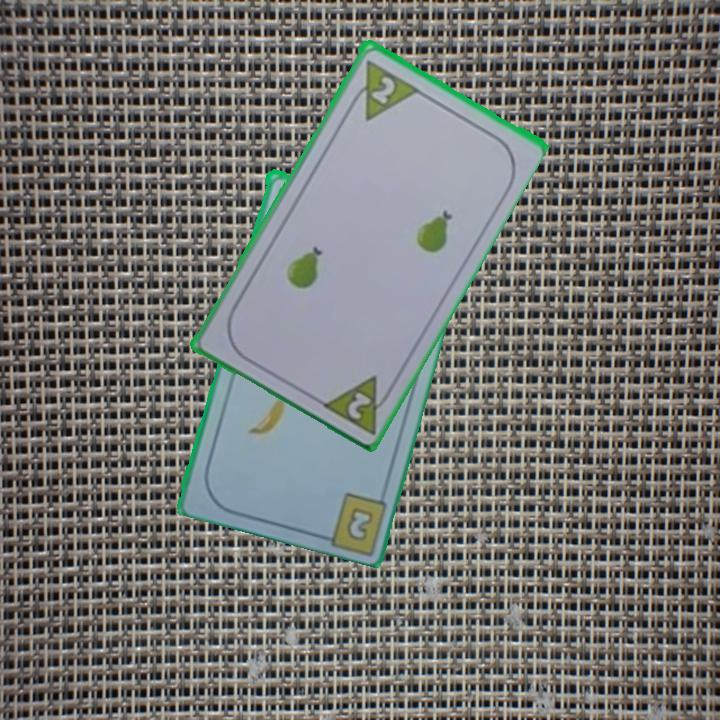2b: (342, 503, 377, 544)
2p: (316, 370, 398, 437), (366, 71, 398, 107)
